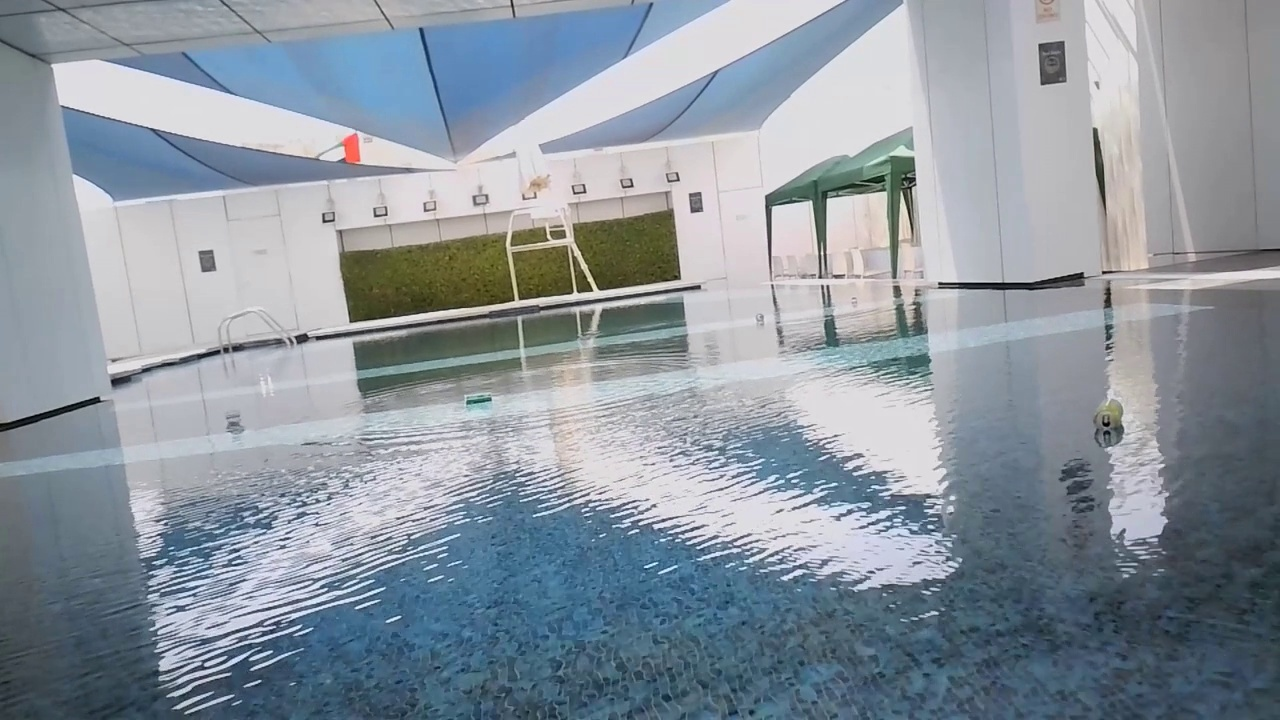debris: (1083, 394, 1126, 435), (457, 389, 492, 408), (751, 308, 766, 321), (847, 295, 857, 306)
